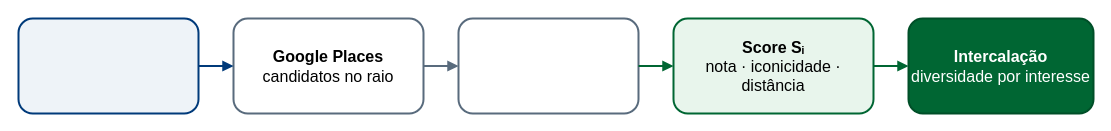
This 1111x131 diagram has some shape labels left out. The shapes that lost their labels are listed below. From the top down, each one's box as (x1, y1, x2, y2) in pixels, then its label:
(17, 17, 199, 114): Interesses pesos por categoria
(457, 17, 639, 114): Filtro remove não atrações
